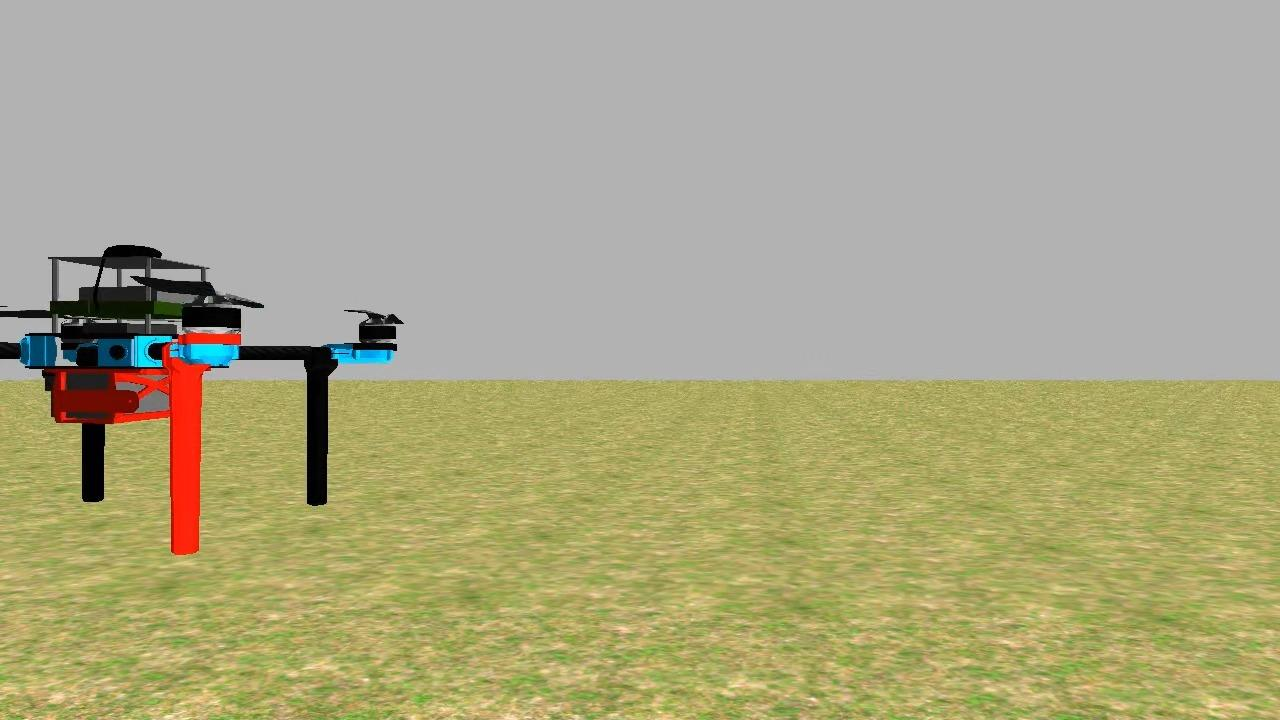UAV: (0, 234, 412, 574)
